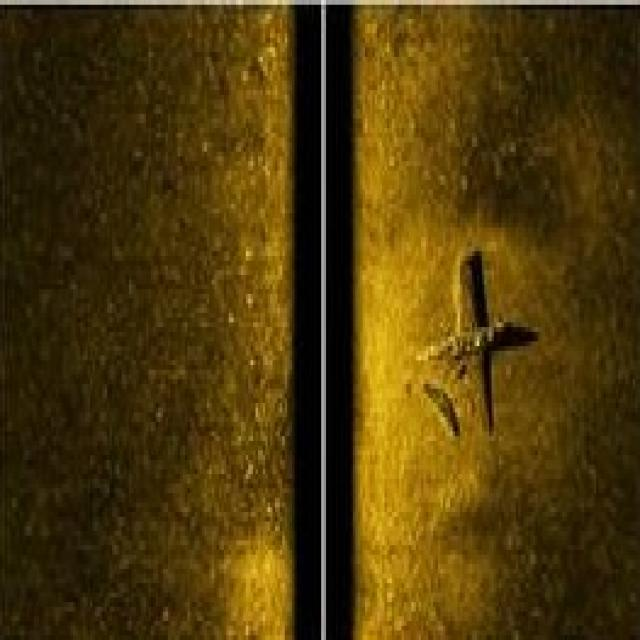plane: (411, 232, 540, 450)
